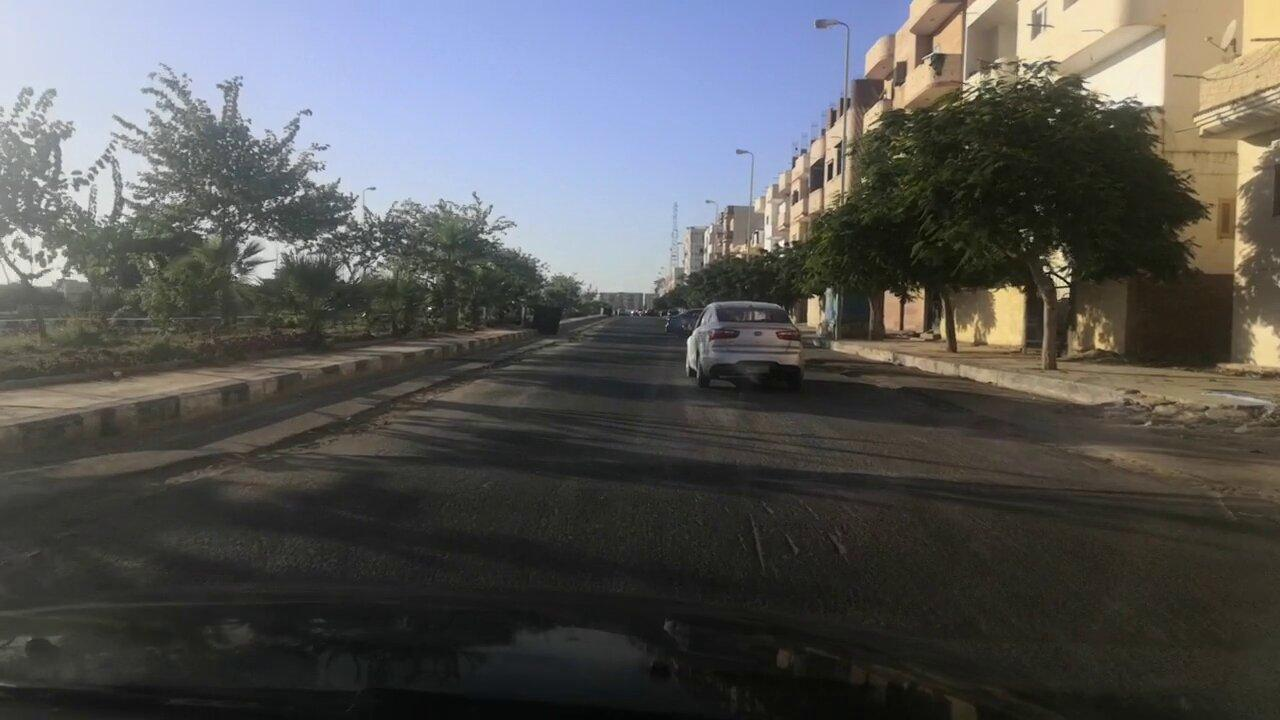Pothole: (28, 370, 462, 603)
